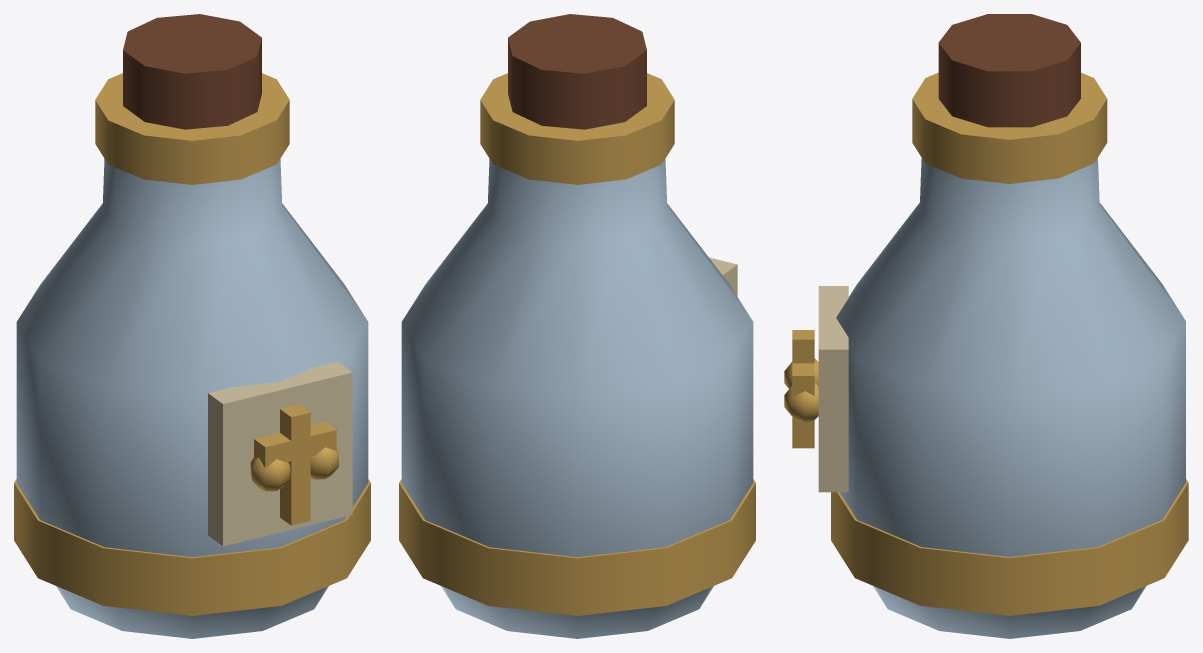
File: holy_water.fbx
The picture shows the model from 3 angles, left to right: view 1: azimuth 30°, elevation 25°; view 2: azimuth 150°, elevation 25°; view 3: azimuth 270°, elevation 25°; orthographic projection.
Parts seen in each view (by area): view 1: holy_water; view 2: holy_water; view 3: holy_water.
Boxes of the visible parts, left/top/right/bottom form: holy_water: left=14, top=14, right=370, bottom=638; holy_water: left=399, top=14, right=755, bottom=638; holy_water: left=784, top=14, right=1188, bottom=638.
Bounding box in the file's own units: 0.4771 × 0.79 × 0.5391.
